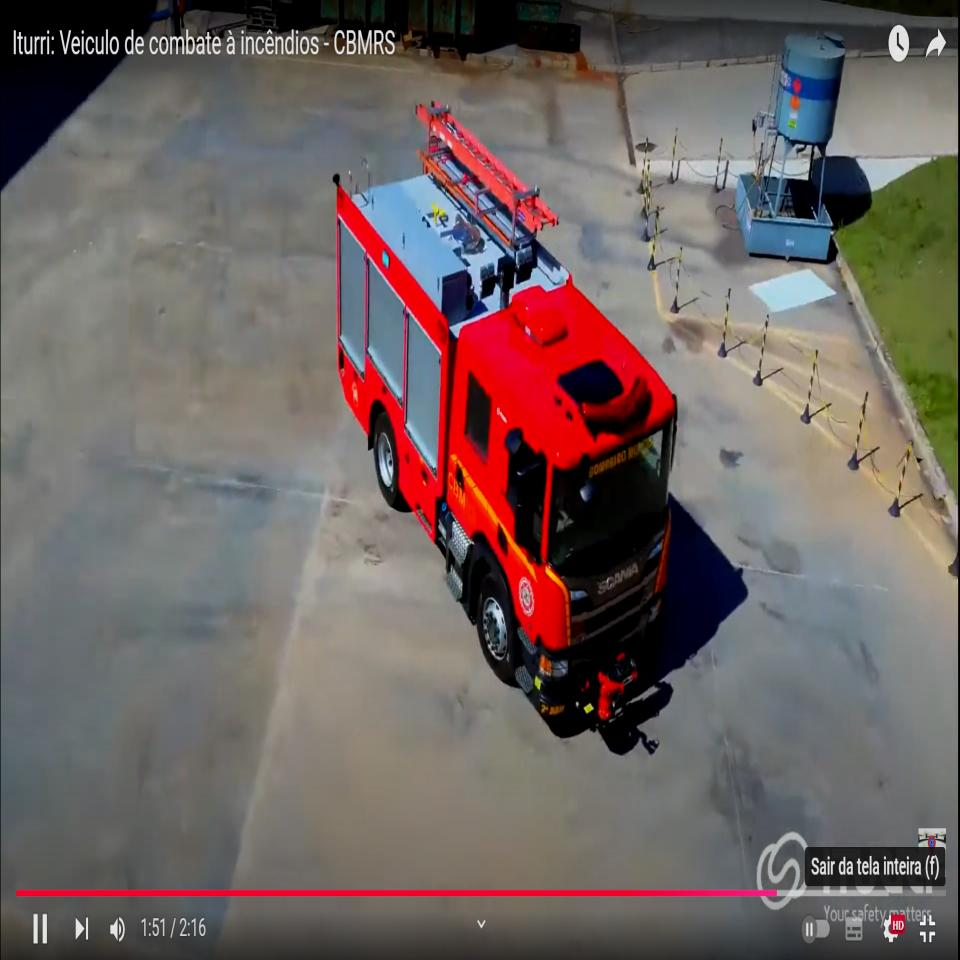bombeiro: (328, 91, 680, 734)
